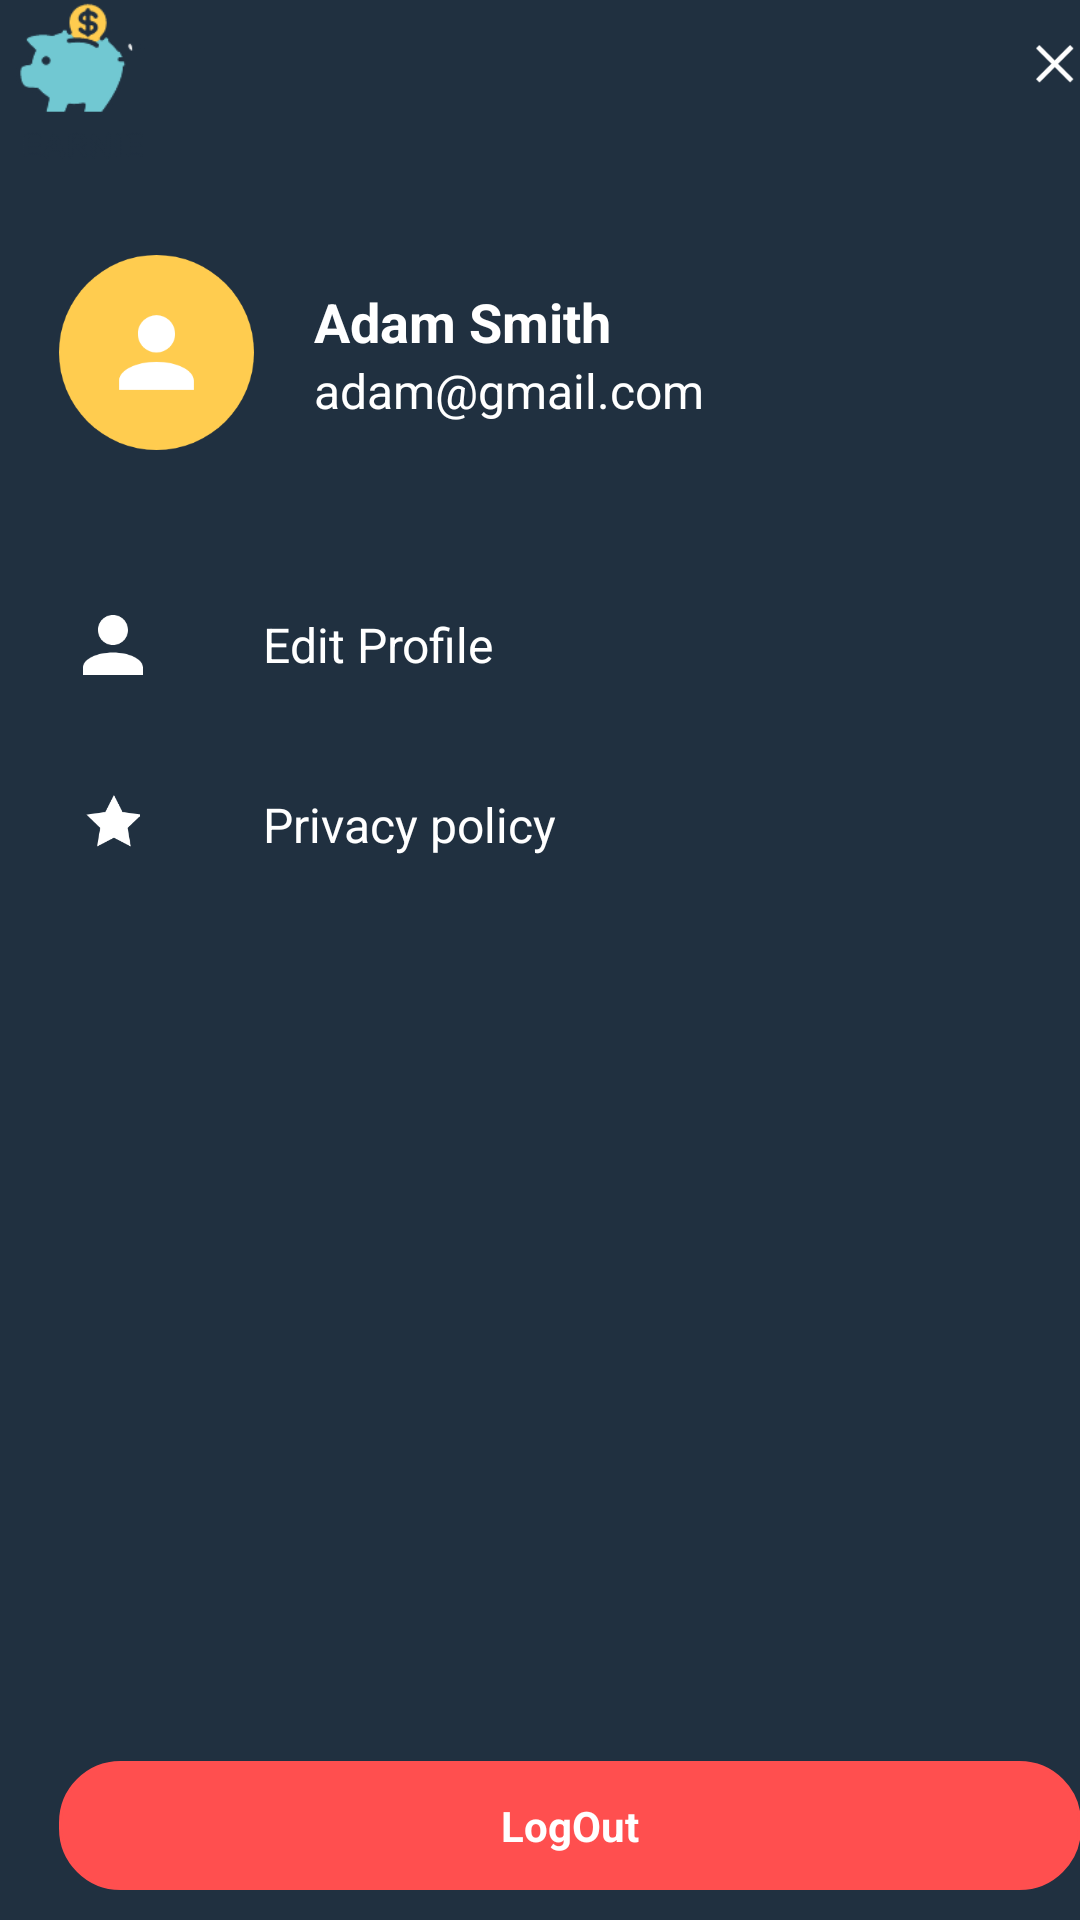

Screen size 1080*1920. Icon name, then its center in pixels as (x,y):
close: (1055,64)
star: (113,821)
